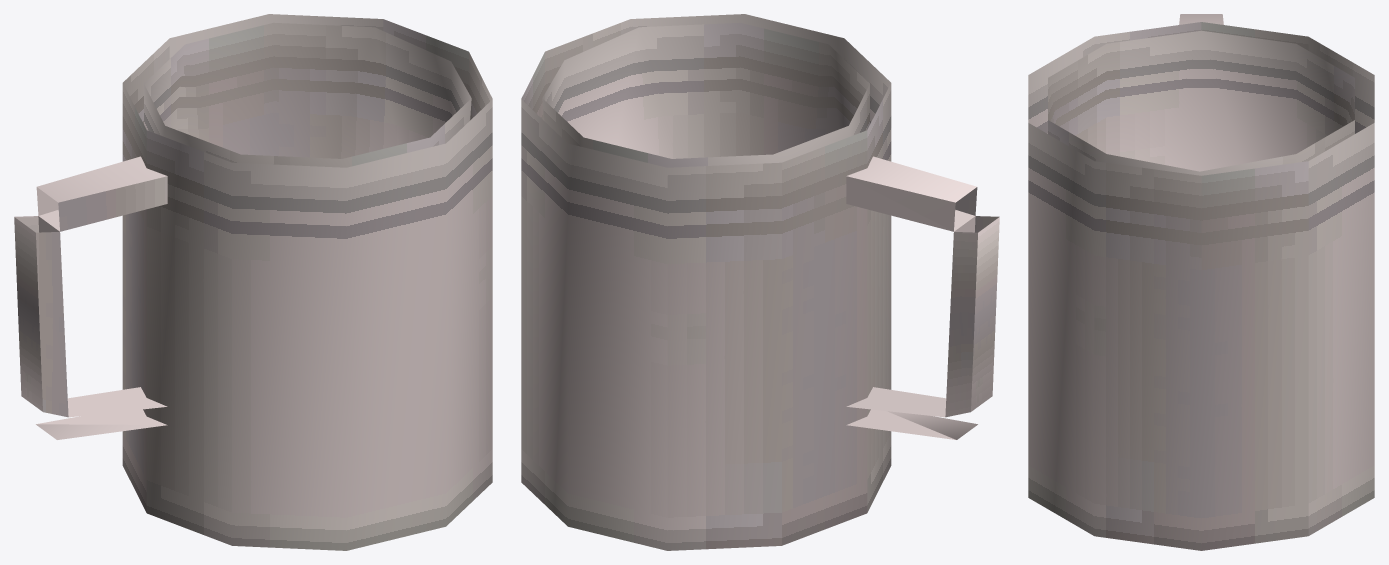
Rendered from coffee_mug.fbx.
3 renders of one model, left to right at view 1: azimuth 30°, elevation 25°; view 2: azimuth 150°, elevation 25°; view 3: azimuth 270°, elevation 25°, orthographic. The views are drawn at different scales.
Visible parts, largest first — view 1: mesh_0; view 2: mesh_0; view 3: mesh_0.
Boxes of the visible parts, <box> form: mesh_0: <box>14,14,492,550</box>; mesh_0: <box>521,14,999,550</box>; mesh_0: <box>1028,14,1374,550</box>.
Size of the model in its own units: 12.88 by 10.63 by 8.89.
Materials: 1 (1 with a texture image).
